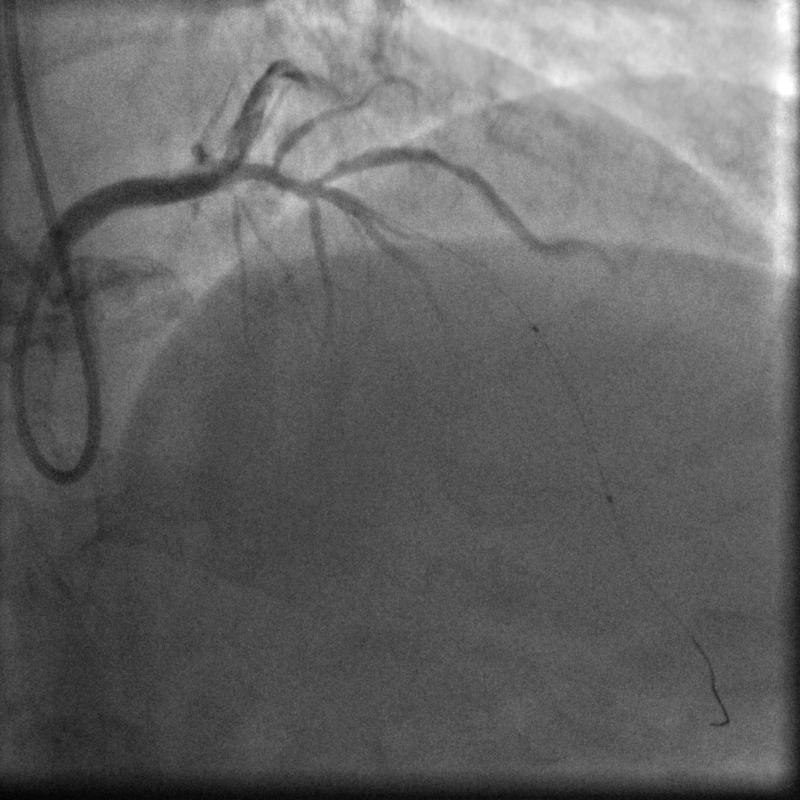Stenosis: (425, 141, 465, 187)
